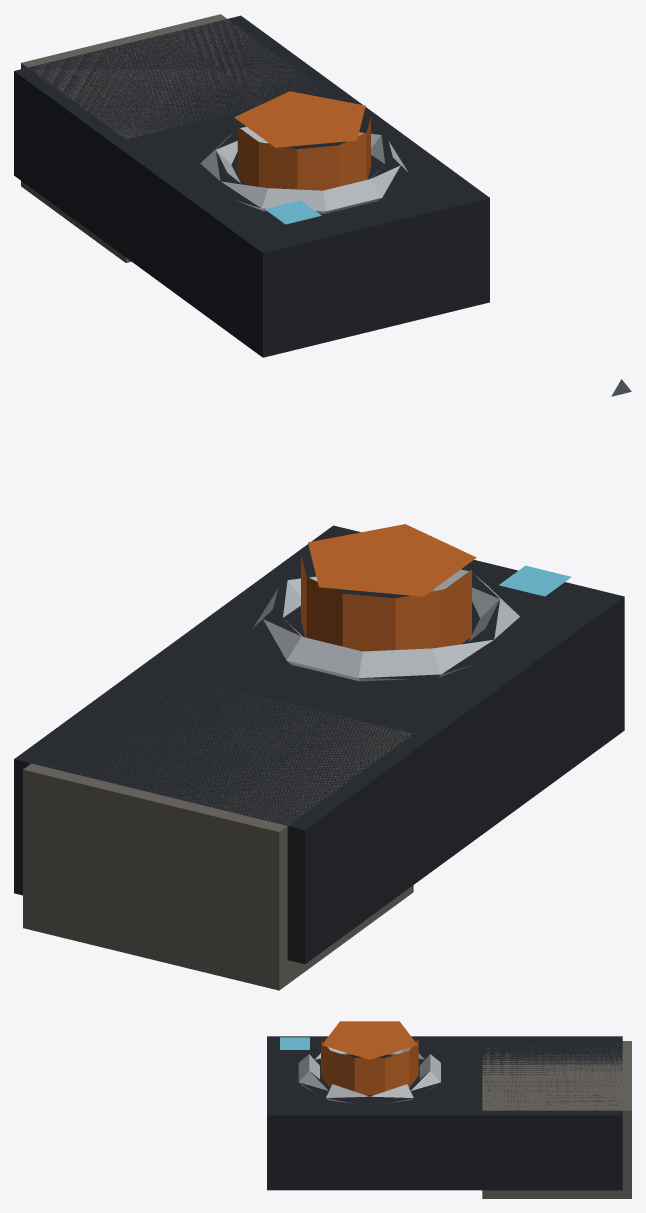
Rendered from remote-detonator.lod.glb.
The picture shows the model from 3 angles, top to bottom: view 1: azimuth 30°, elevation 25°; view 2: azimuth 150°, elevation 25°; view 3: azimuth 270°, elevation 25°; orthographic projection. The views are drawn at different scales.
Parts seen in each view (by area): view 1: m; view 2: m; view 3: m.
Part boxes in pixels (box(x1,y1,x2,y2)): m: box(14, 14, 631, 396); m: box(14, 524, 624, 990); m: box(267, 1021, 631, 1198).
Bounding box in the file's own units: 0.0394 × 0.0292 × 0.13.
